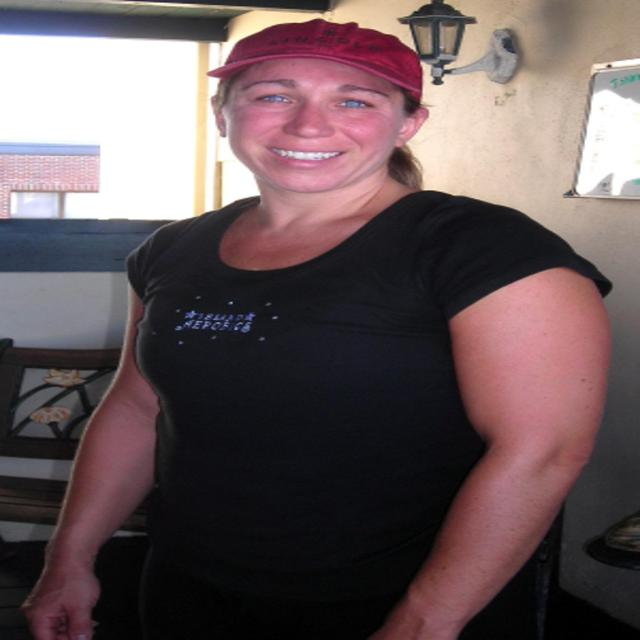Face: (206, 52, 422, 193)
